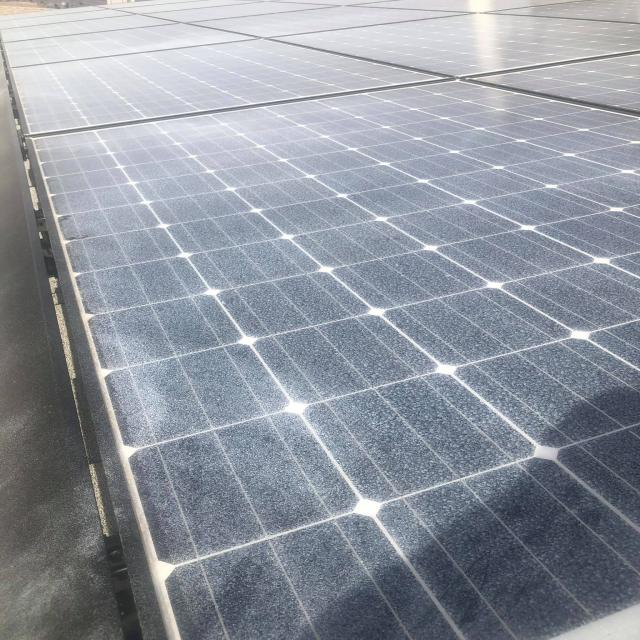dust-solar-panel: (0, 0, 638, 640)
